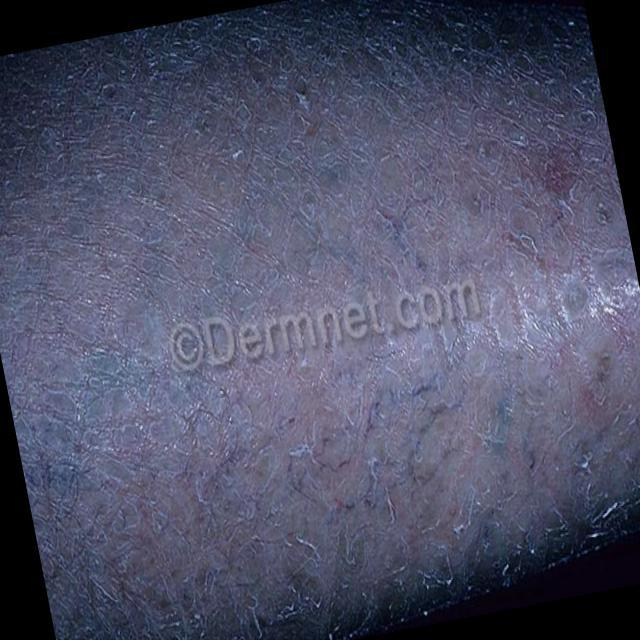Eczema: (44, 133, 608, 528)
